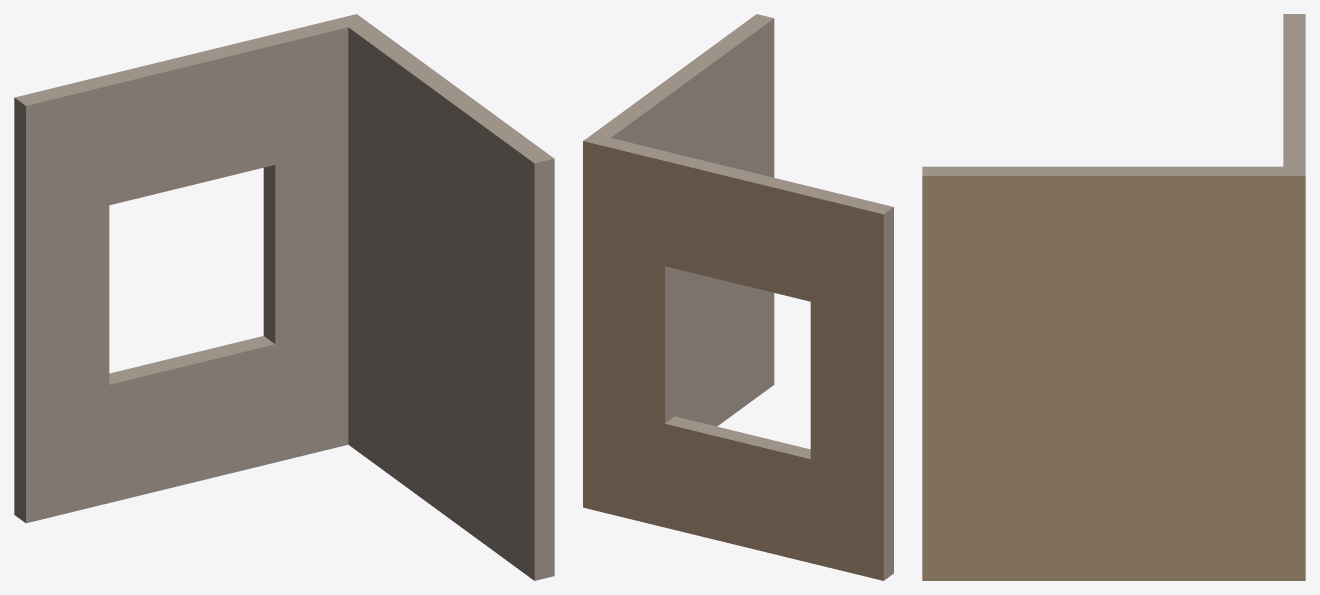
File: Wall2_C4_10.fbx
3 renders of one model, left to right at view 1: azimuth 30°, elevation 25°; view 2: azimuth 150°, elevation 25°; view 3: azimuth 270°, elevation 25°, orthographic. The views are drawn at different scales.
Visible parts, largest first — view 1: Wall2_C4_10; view 2: Wall2_C4_10; view 3: Wall2_C4_10.
Boxes of the visible parts, x1,y1,x2,y2 form: Wall2_C4_10: (14, 14, 554, 580); Wall2_C4_10: (583, 14, 893, 580); Wall2_C4_10: (922, 14, 1305, 580).
Bounding box in the file's own units: 258 × 300 × 258.
